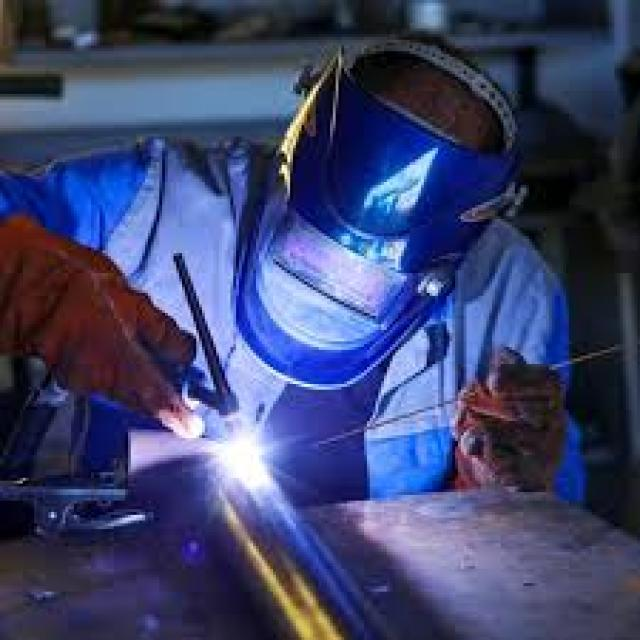welding: (219, 428, 269, 474)
